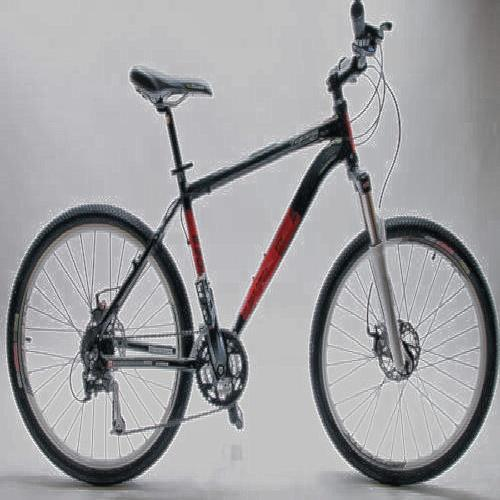bicycle: (32, 43, 482, 469)
